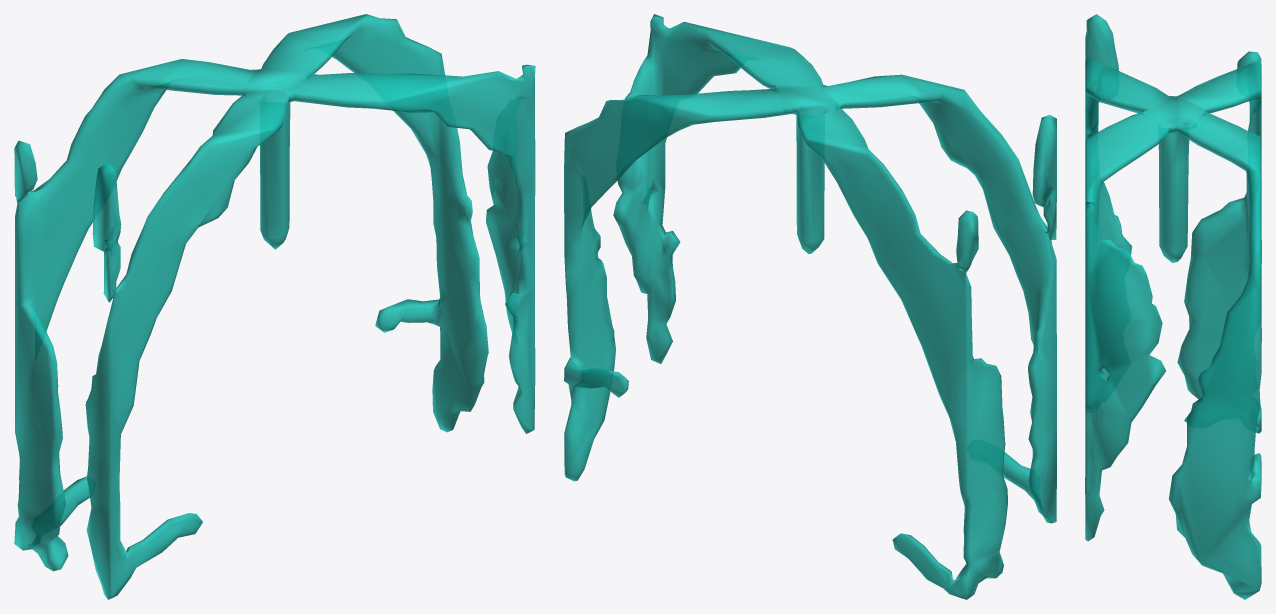
3 renders of one model, left to right at view 1: azimuth 30°, elevation 25°; view 2: azimuth 150°, elevation 25°; view 3: azimuth 270°, elevation 25°, orthographic. The views are drawn at different scales.
Visible parts, largest first — view 1: Liquid_Domain; view 2: Liquid_Domain; view 3: Liquid_Domain.
Part boxes in pixels (<box>): Liquid_Domain: <box>14,14,535,599</box>; Liquid_Domain: <box>564,14,1056,599</box>; Liquid_Domain: <box>1085,14,1261,599</box>.
Bounding box in the file's own units: 884 × 884 × 344.
